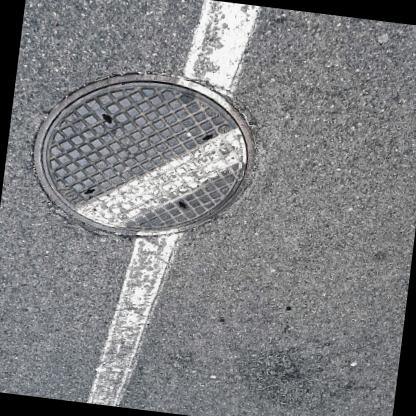manholes: (6, 51, 298, 278)
